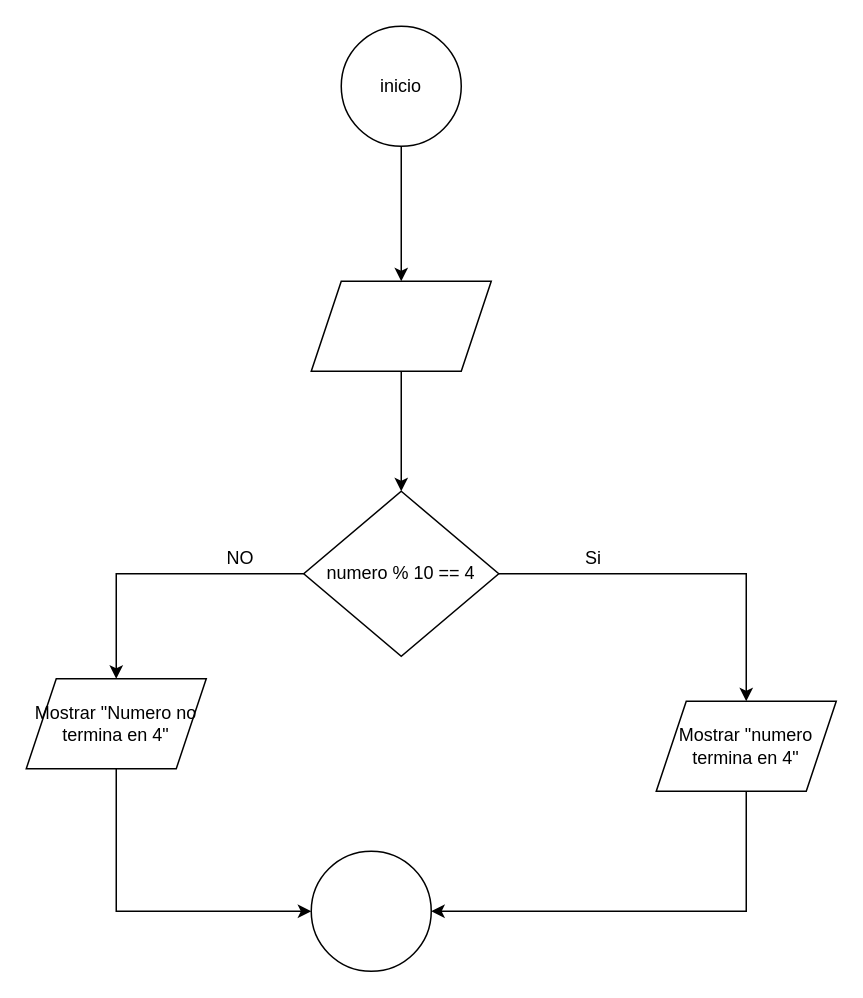
The diagram is 863 pixels wide and 998 high, and some of its shapes have lost their labels. Each missing label, with the box of its shape:
Fin: (310, 850, 431, 971)
Leer numero: (310, 280, 491, 371)
